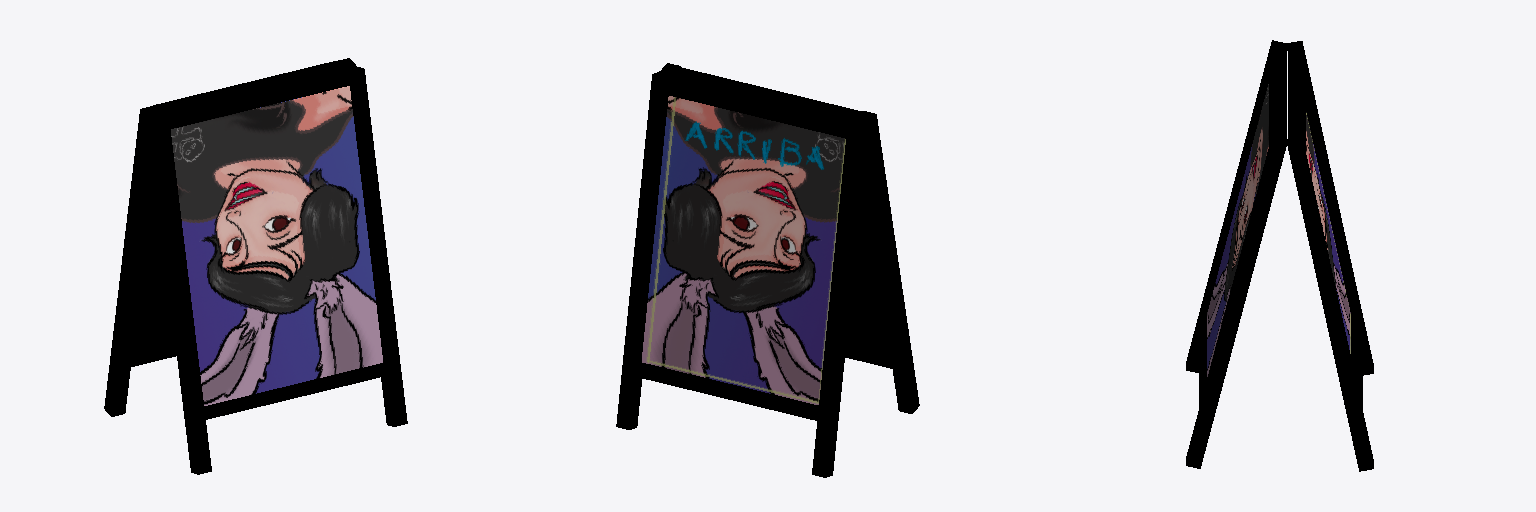
3 views of the same model, side by side, from view 1: azimuth 30°, elevation 25°; view 2: azimuth 150°, elevation 25°; view 3: azimuth 270°, elevation 25° (orthographic).
Visible parts, largest first — view 1: pasted__pasted__pCube3 pasted__group1 group8, pasted__pCube3 group4, pCube3, pasted__pasted__pCube3 pasted__group4 group6, pasted__pCube3 group1, pasted__pasted__pCube2 pasted__group2 group5, pasted__pasted__pasted__pCube2 pasted__pasted__group2 pasted__gr, pCube4; view 2: pasted__pCube3 group1, pCube3, pasted__pCube3 group3, pasted__pCube3 group4, pCube4, pasted__pasted__pCube3 pasted__group1 group8, pCube2, pasted__pasted__pCube2 pasted__group2 group5, pasted__pasted__pasted__pCube2 pasted__pasted__group2 pasted__gr; view 3: pasted__pasted__pCube3 pasted__group4 group6, pasted__pCube3 group3, pasted__pasted__pCube3 pasted__group1 group8, pCube3, pasted__pCube3 group4, pasted__pCube3 group1, pCube4, pasted__pasted__pCube2 pasted__group2 group5, pCube2, pasted__pasted__pasted__pCube2 pasted__pasted__group2 pasted__gr.
Part boxes in pixels (x1,y1,x2,y2): pasted__pasted__pCube3 pasted__group1 group8: (171, 86, 382, 405); pasted__pCube3 group4: (148, 114, 211, 474); pCube3: (104, 106, 160, 416); pasted__pasted__pCube3 pasted__group4 group6: (344, 67, 407, 426); pasted__pCube3 group1: (132, 172, 175, 357); pasted__pasted__pCube2 pasted__group2 group5: (164, 71, 351, 128); pasted__pasted__pasted__pCube2 pasted__pasted__group2 pasted__gr: (204, 363, 387, 419); pCube4: (153, 61, 342, 114); pasted__pCube3 group1: (642, 96, 845, 404); pCube3: (812, 119, 868, 477); pasted__pCube3 group3: (616, 71, 671, 429); pasted__pCube3 group4: (856, 111, 919, 413); pCube4: (665, 75, 854, 138); pasted__pasted__pCube3 pasted__group1 group8: (846, 176, 889, 354); pCube2: (635, 362, 819, 420); pasted__pasted__pCube2 pasted__group2 group5: (675, 67, 861, 118); pasted__pasted__pasted__pCube2 pasted__pasted__group2 pasted__gr: (845, 345, 892, 368); pasted__pasted__pCube3 pasted__group4 group6: (1186, 136, 1286, 468); pasted__pCube3 group3: (1287, 136, 1373, 471); pasted__pasted__pCube3 pasted__group1 group8: (1207, 84, 1268, 376); pCube3: (1287, 41, 1373, 375); pasted__pCube3 group4: (1186, 40, 1286, 372); pasted__pCube3 group1: (1306, 112, 1350, 353); pCube4: (1288, 47, 1305, 149); pasted__pasted__pCube2 pasted__group2 group5: (1269, 48, 1286, 144); pCube2: (1351, 312, 1362, 408); pasted__pasted__pasted__pCube2 pasted__pasted__group2 pasted__gr: (1199, 313, 1206, 406).
Size of the model in its own units: 1.65 by 2.48 by 1.28.
Materials: 5 (2 with a texture image).